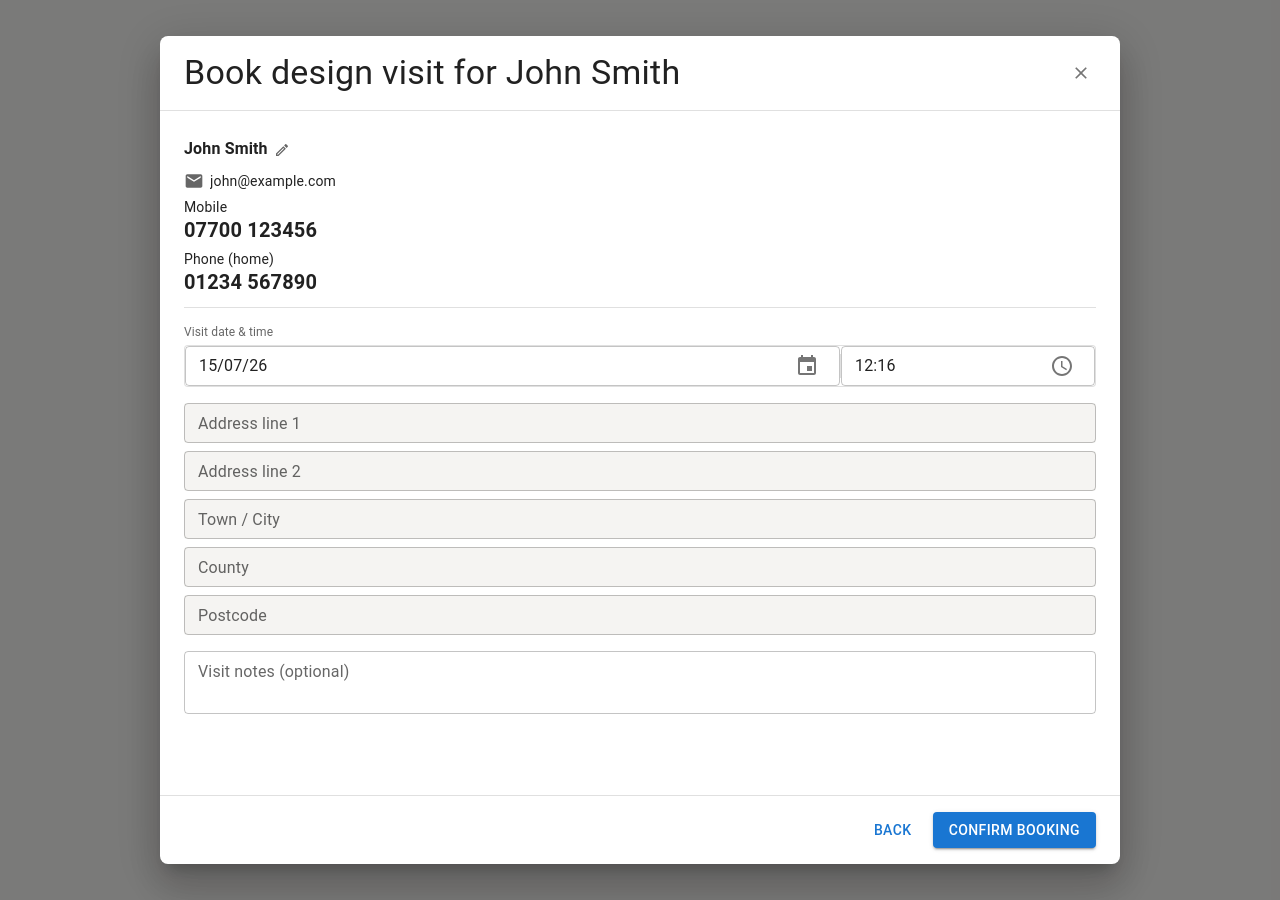
Test: ArrangeVisitModal — discard guard dialog behavior (real hook) › "Keep editing" dismisses the discard dialog and returns to the booked step
The width and height of the screenshot is (1280, 900).
Check: the button with test id "av-booked-confirm" is shown, box [933,812,1096,848]
Click the button named "close".
click(1081, 73)  # box [1066,58,1096,88]
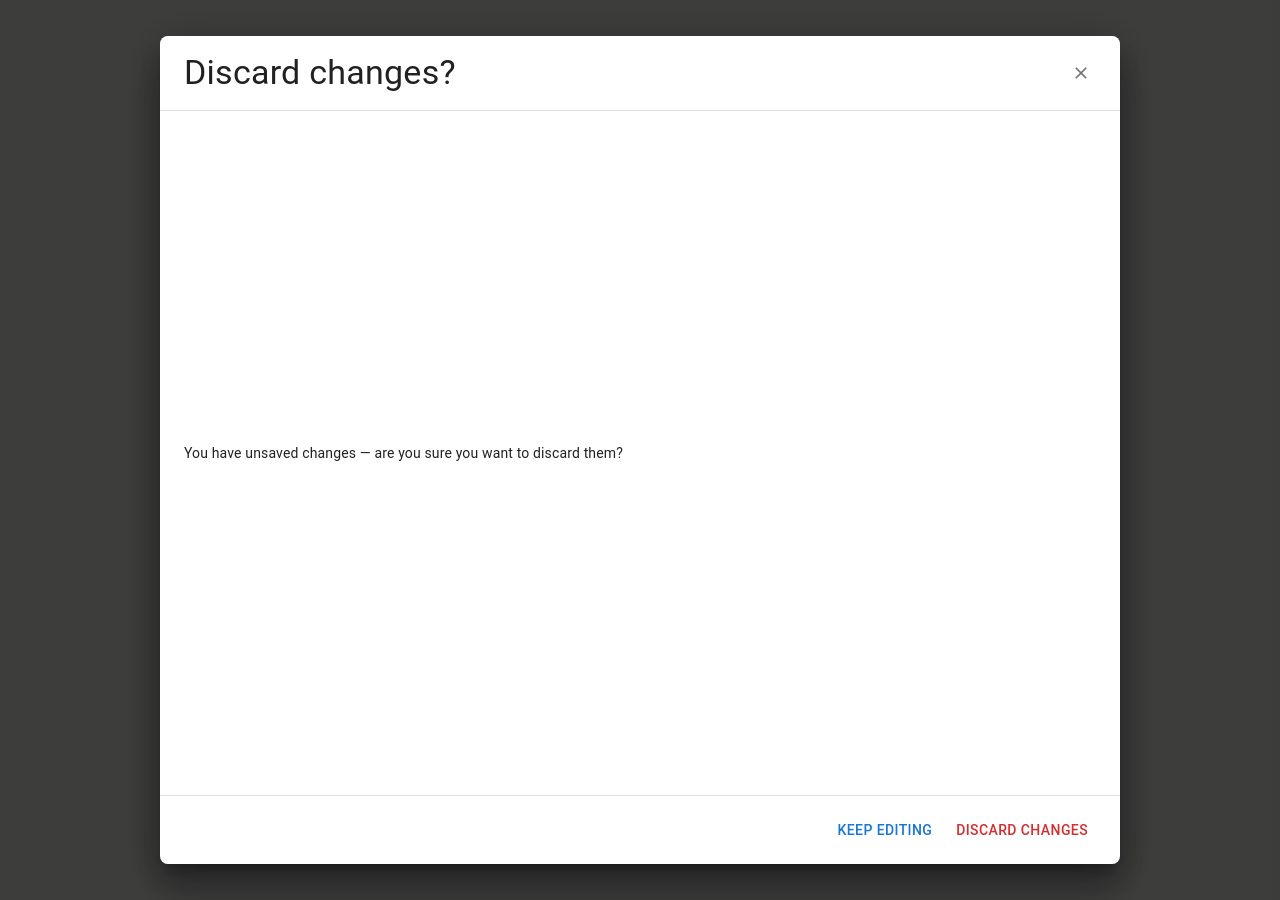
Check: the dialog "Discard changes" is shown
Click the button "Keep editing".
click(885, 830)  # box [830,812,940,848]
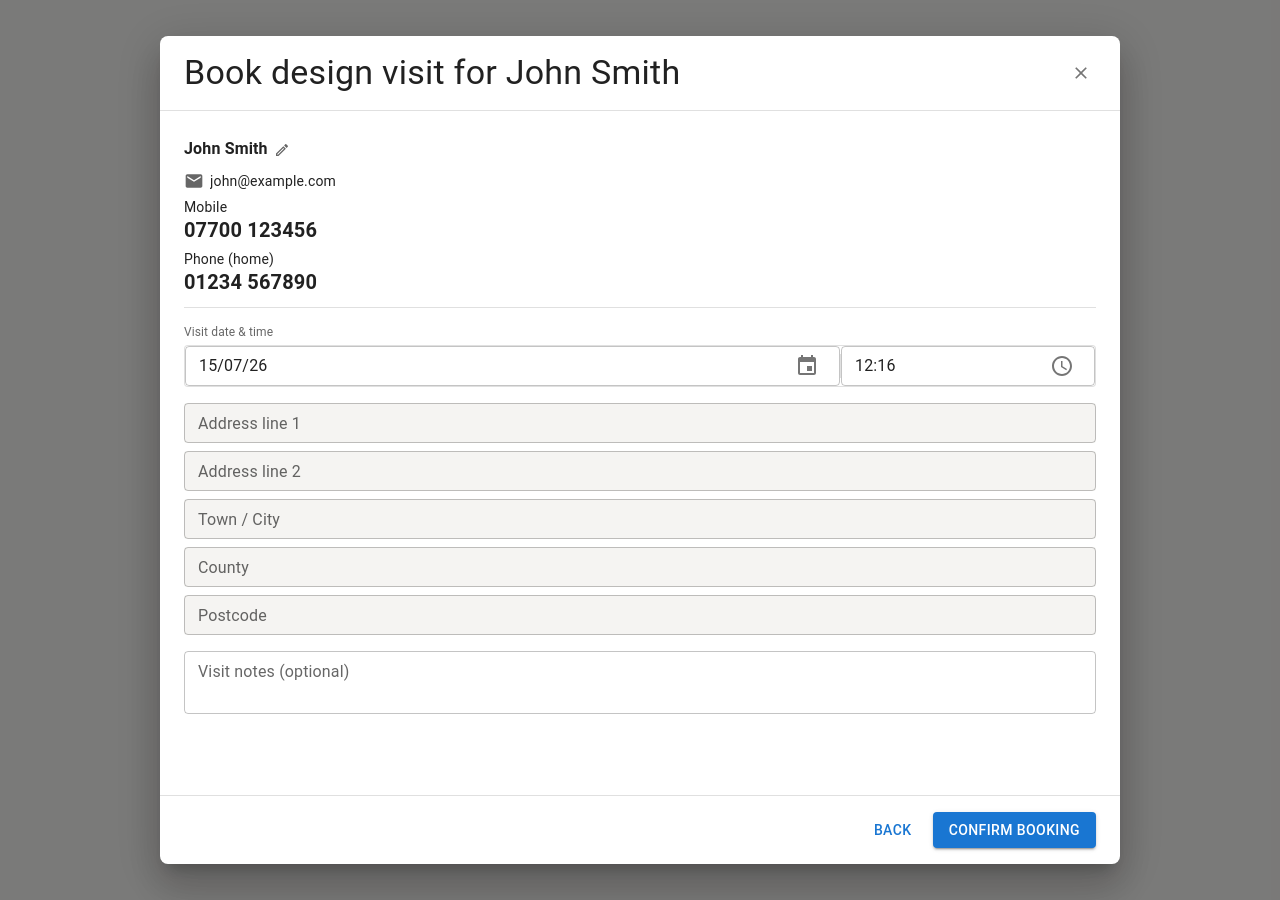
Check: the button with test id "av-booked-confirm" is shown, box [933,812,1096,848]
Check: the heading "Discard changes" is gone
